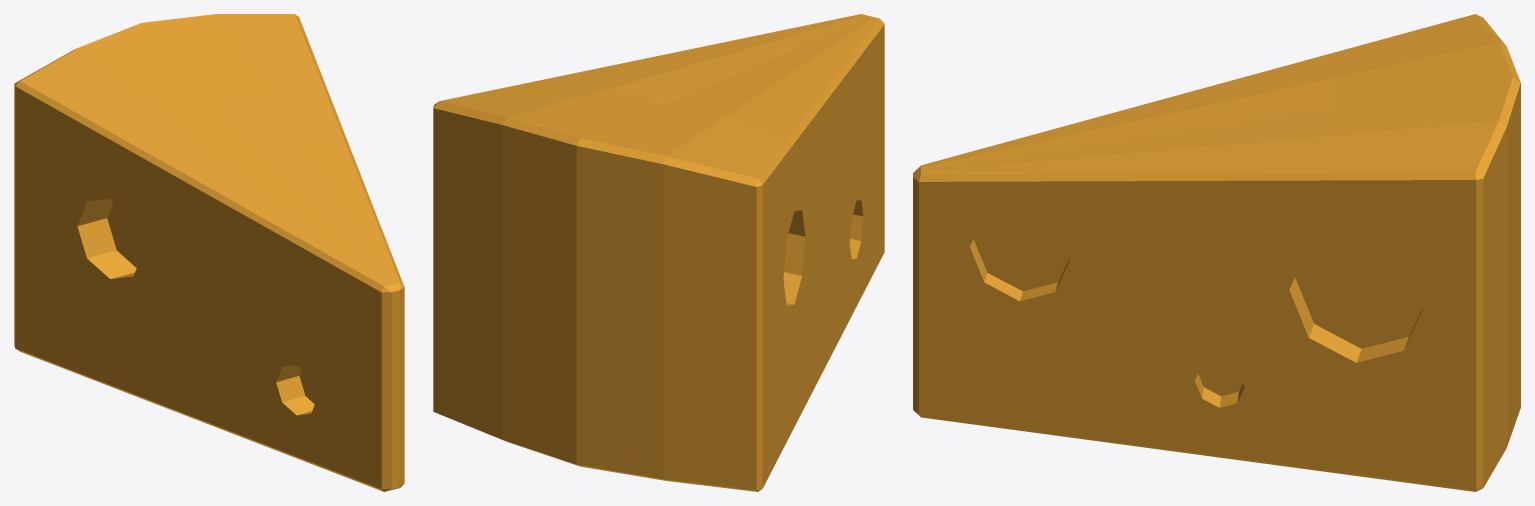
File: Cheese.fbx
3 views of the same model, side by side, from view 1: azimuth 30°, elevation 25°; view 2: azimuth 150°, elevation 25°; view 3: azimuth 270°, elevation 25° (orthographic). The views are drawn at different scales.
Parts seen in each view (by area): view 1: Cheese.001; view 2: Cheese.001; view 3: Cheese.001.
Boxes of the visible parts, bbox=[...] form: Cheese.001: bbox=[14, 14, 404, 491]; Cheese.001: bbox=[433, 14, 884, 491]; Cheese.001: bbox=[913, 14, 1520, 491].
Size of the model in its own units: 98.8 by 94.37 by 155.
